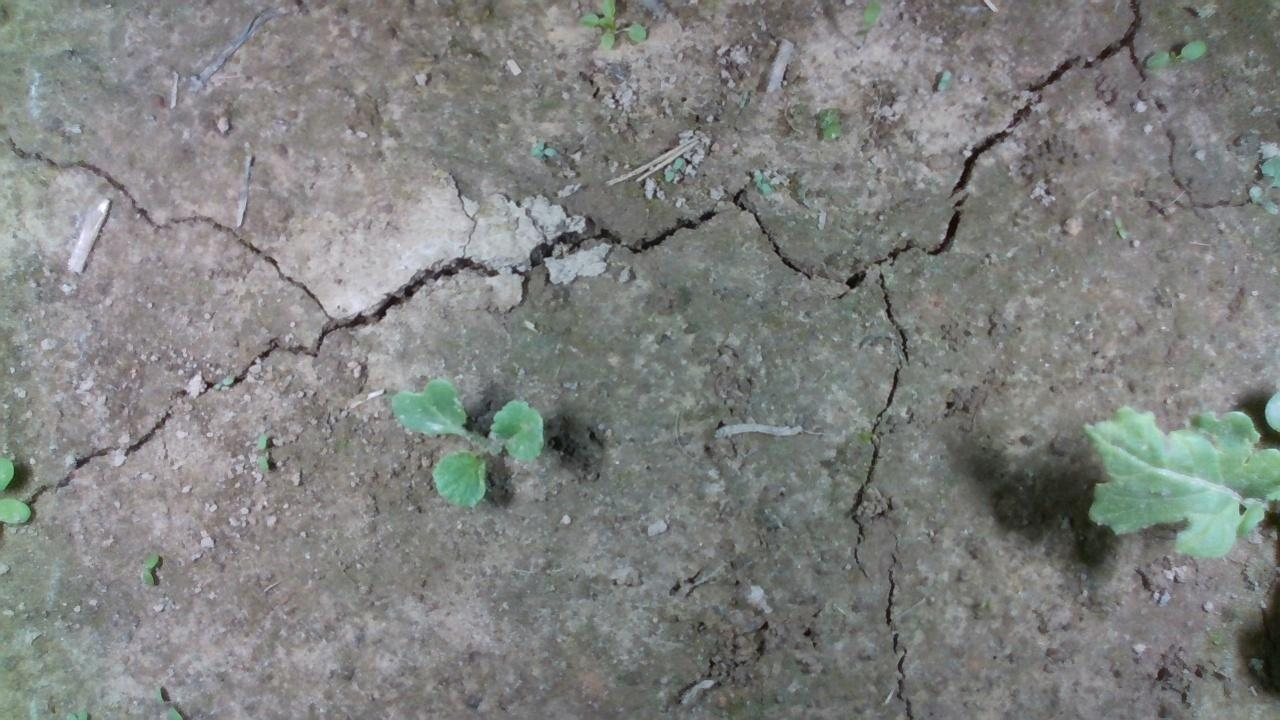weed: (127, 551, 175, 596), (1144, 29, 1192, 63), (242, 422, 268, 470), (205, 366, 248, 389), (524, 135, 558, 161), (747, 166, 785, 188), (933, 67, 959, 91)
